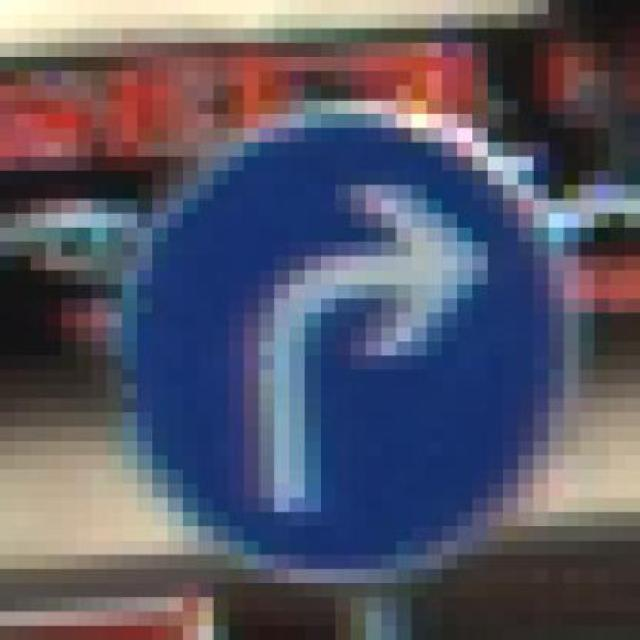Turn right ahead: (107, 99, 579, 584)
